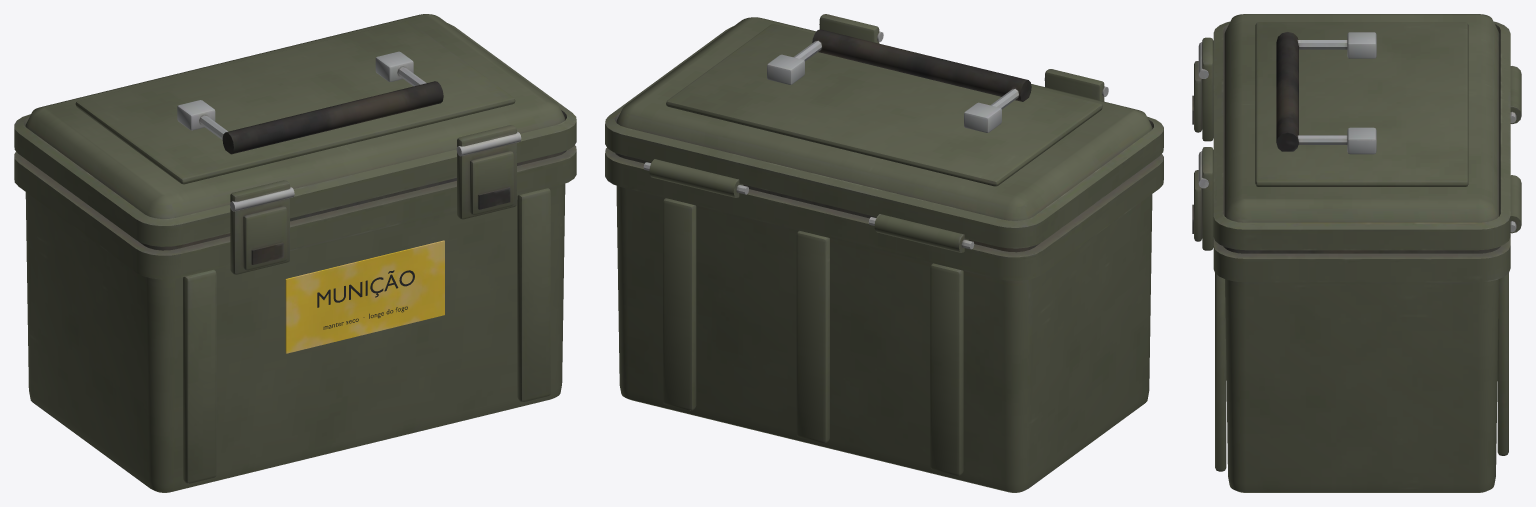
File: estojo_municao.glb
3 renders of one model, left to right at view 1: azimuth 30°, elevation 25°; view 2: azimuth 150°, elevation 25°; view 3: azimuth 270°, elevation 25°, orthographic.
Parts seen in each view (by area): view 1: caixa, reforcos, ferragens, etiqueta, letras; view 2: caixa, reforcos, ferragens; view 3: caixa, reforcos, ferragens.
Part boxes in pixels (x1,y1,x2,y2): caixa: (14, 14, 576, 492); reforcos: (75, 20, 550, 483); ferragens: (177, 51, 521, 274); etiqueta: (285, 240, 444, 353); letras: (317, 270, 414, 329); caixa: (605, 17, 1163, 492); reforcos: (663, 24, 1102, 475); ferragens: (643, 14, 1108, 252); caixa: (1213, 14, 1510, 492); reforcos: (1215, 22, 1508, 471); ferragens: (1192, 32, 1521, 250).
Bounding box in the file's own units: 0.308 × 0.215 × 0.2042.
Materials: 1 (1 with a texture image).
